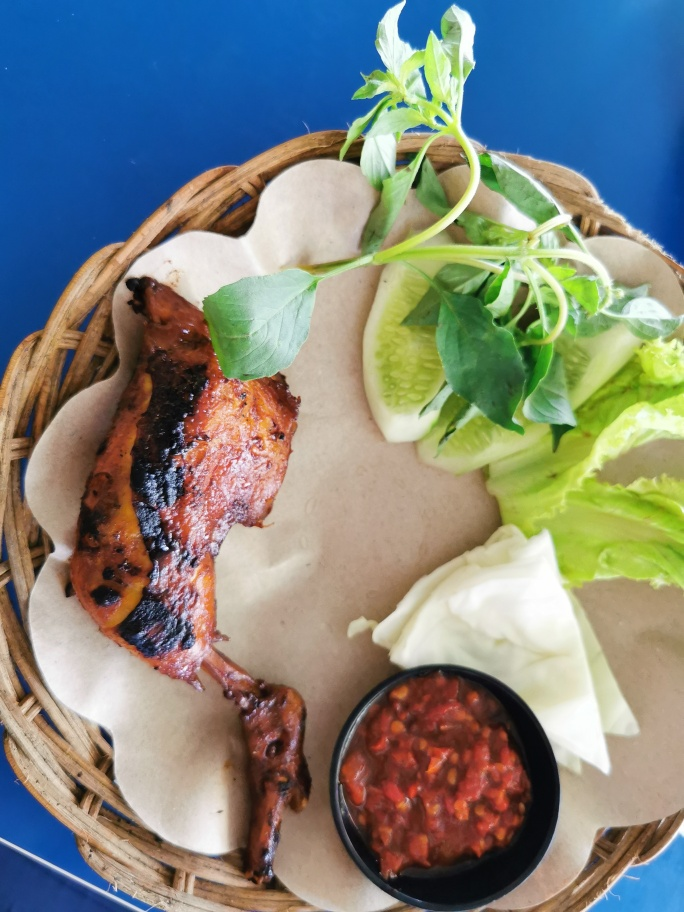ayam bakar: (75, 278, 336, 893)
